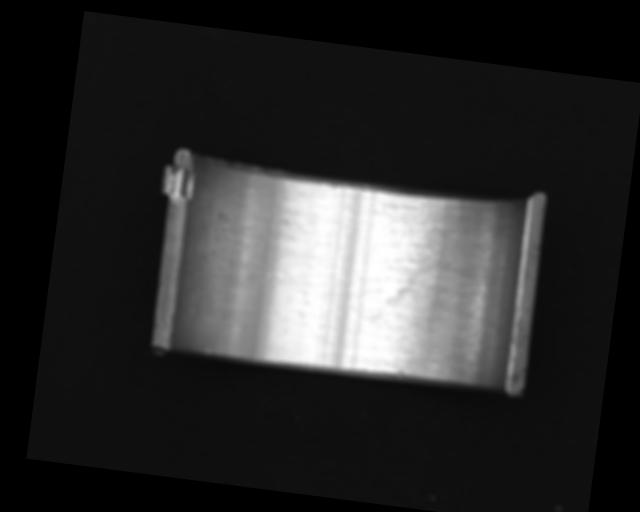bruise: (395, 367, 407, 377)
